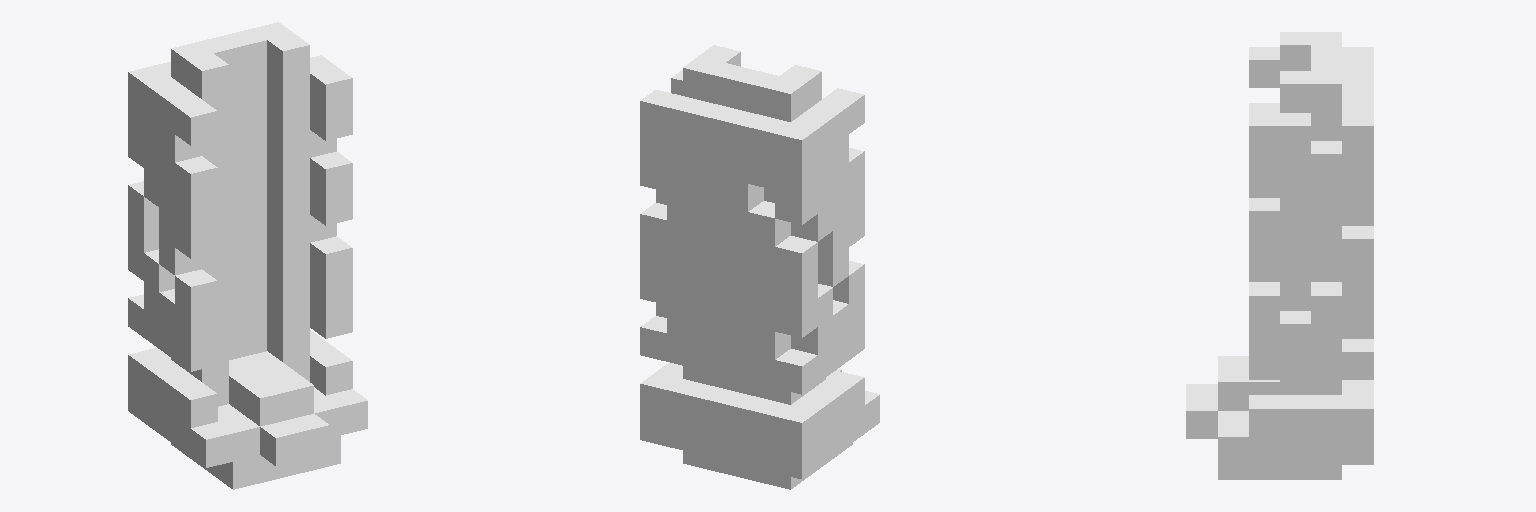
Rendered from RoboZomboLegNoCol.obj.
The picture shows the model from 3 angles: view 1: azimuth 30°, elevation 25°; view 2: azimuth 150°, elevation 25°; view 3: azimuth 270°, elevation 25°; orthographic projection.
Size of the model in its own units: 6 by 14 by 6.